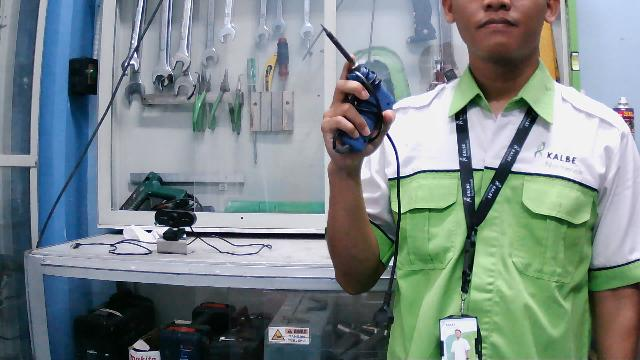solder_electrical: (315, 22, 396, 160)
